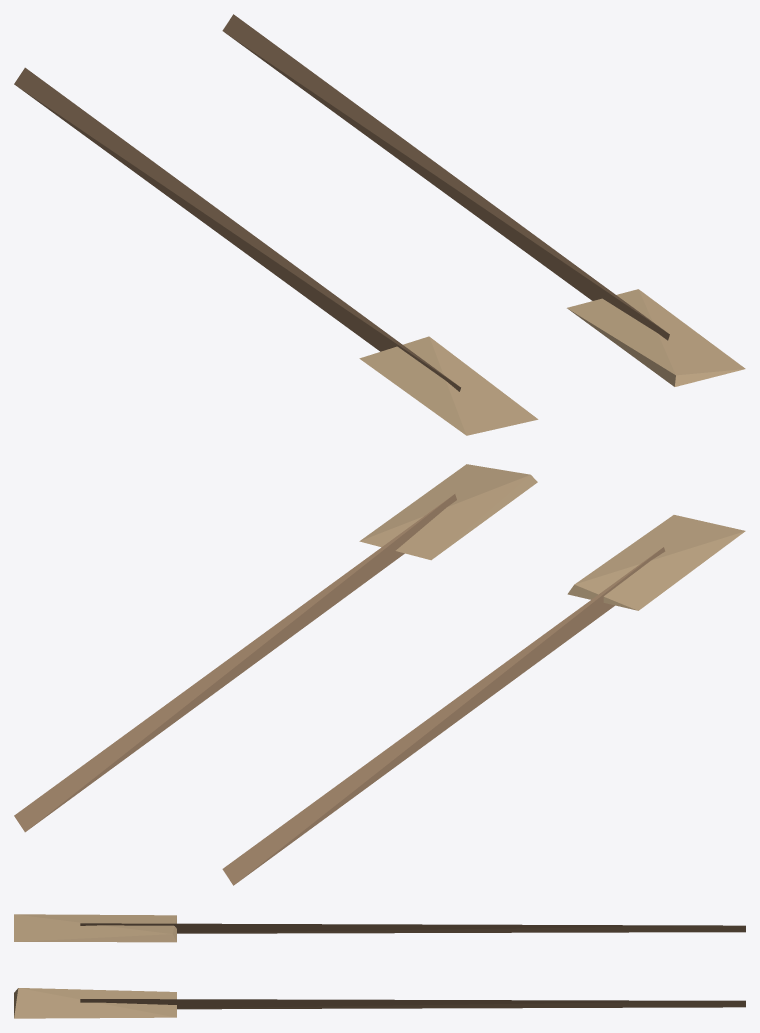
The model's file is boats.oars.lod2.glb.
3 views of the same model, one above another, from view 1: azimuth 30°, elevation 25°; view 2: azimuth 150°, elevation 25°; view 3: azimuth 270°, elevation 25° (orthographic). The views are drawn at different scales.
Visible parts, largest first — view 1: Shaft.001, Shaft, Blade, Blade.001; view 2: Shaft.001, Shaft, Blade, Blade.001; view 3: Shaft.001, Shaft, Blade, Blade.001.
Part boxes in pixels (x1,y1,x2,y2): Shaft.001: (222,14,669,340); Shaft: (14,67,460,391); Blade: (359,336,538,435); Blade.001: (567,289,745,386); Shaft.001: (14,494,456,832); Shaft: (222,547,665,885); Blade: (567,515,745,610); Blade.001: (359,464,537,560); Shaft.001: (80,999,745,1009); Shaft: (80,923,745,933); Blade: (14,914,176,942); Blade.001: (14,988,176,1018).
Size of the model in its own units: 0.8086 by 0.0535 by 2.42.
